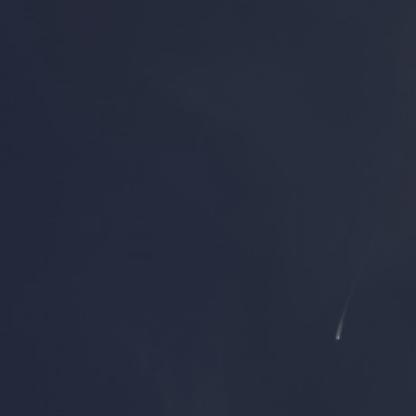ship: (332, 329, 344, 341)
